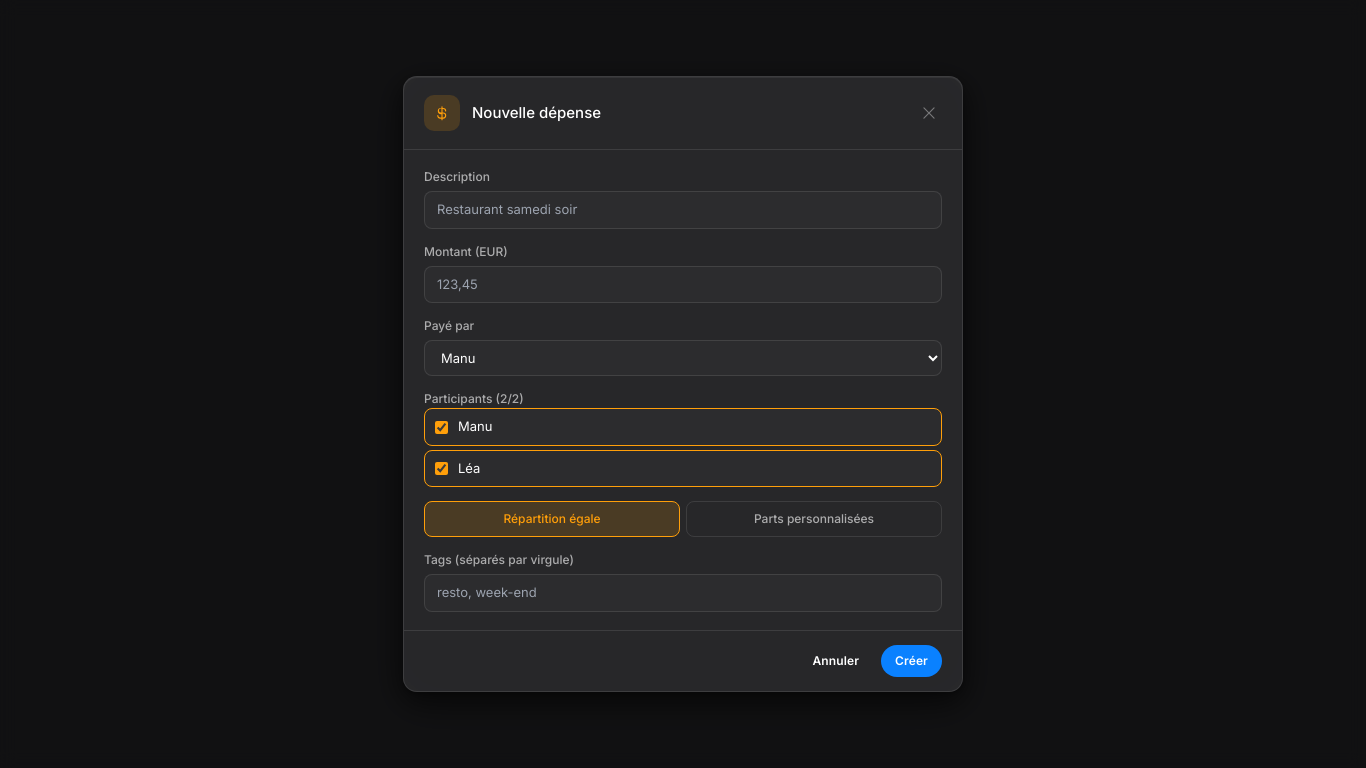
Test: ExpenseModal — un participant qui n’est plus membre › affiche qui a quitté le groupe et rafraîchit la liste des membres
Type "Resto" into the field labelled "Description".
click(683, 210); type("Resto")  # box left=424, top=191, right=942, bottom=229
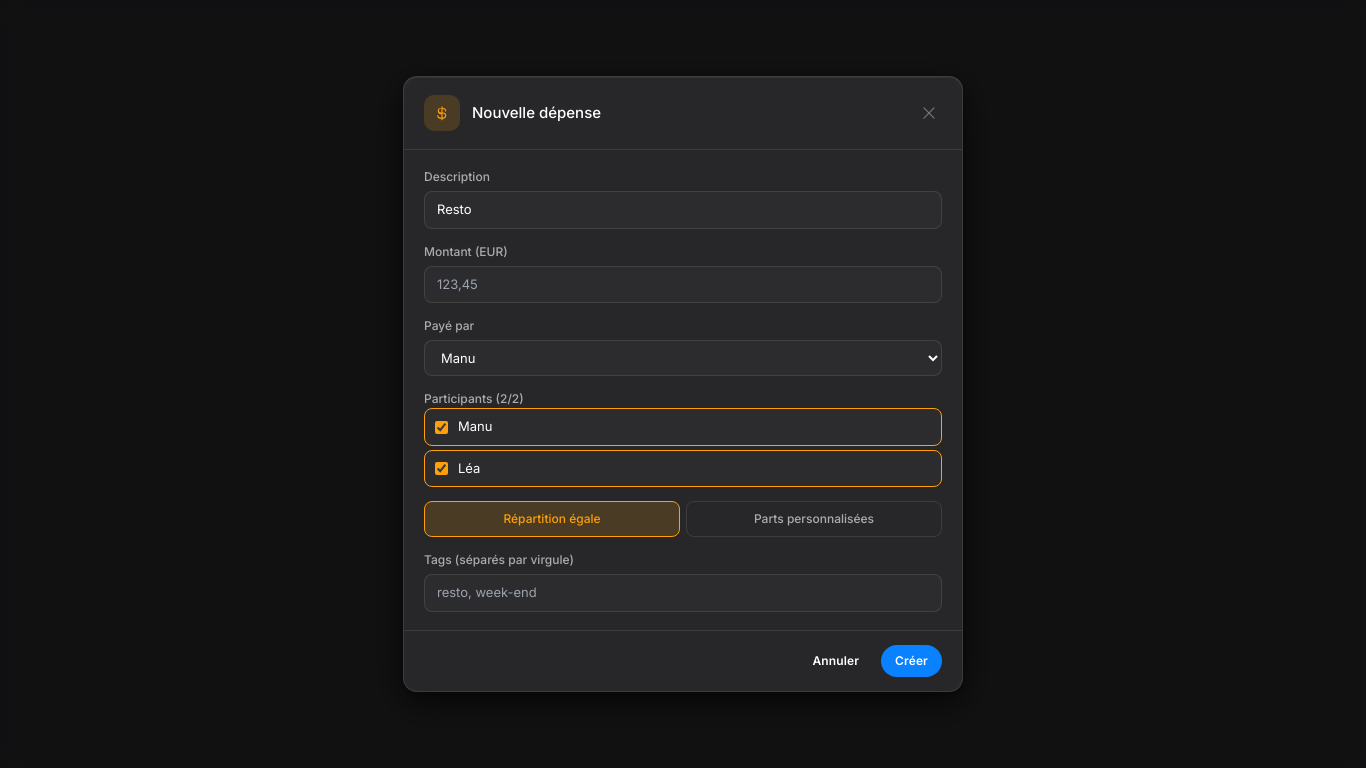
Type "42" into the field labelled "Montant (EUR)".
click(683, 285); type("42")  # box left=424, top=266, right=942, bottom=303
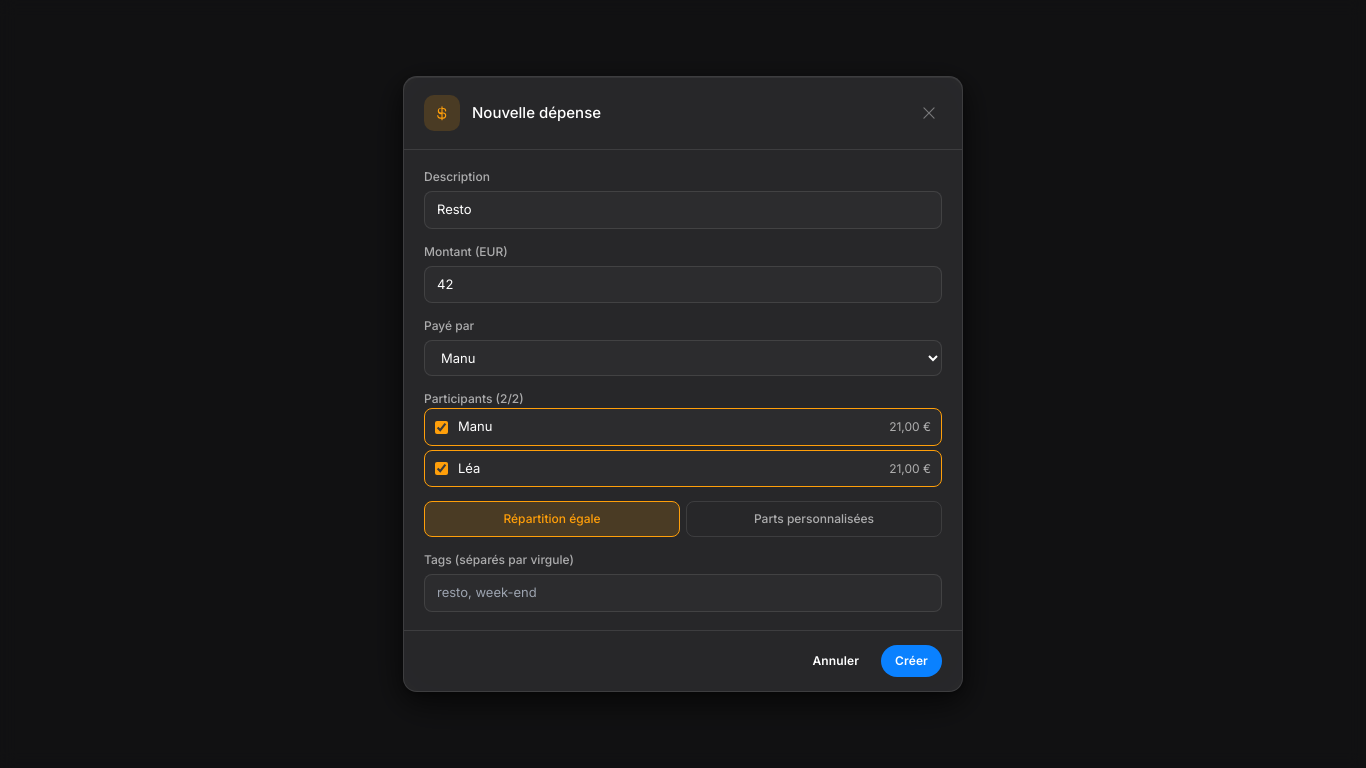
Click the button "Créer".
click(912, 661)  # box left=881, top=645, right=942, bottom=677
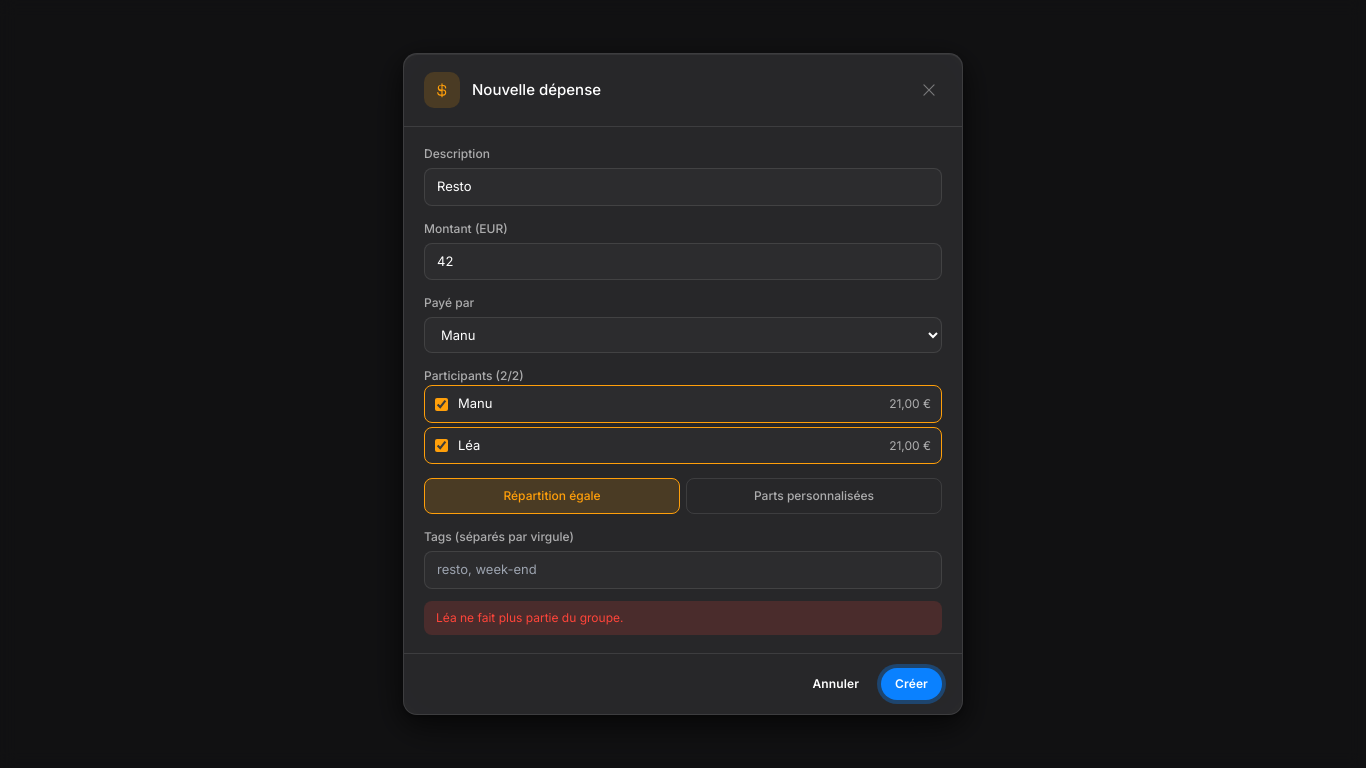
Now the text "Léa ne fait plus partie du groupe." is shown, box left=424, top=601, right=942, bottom=635
